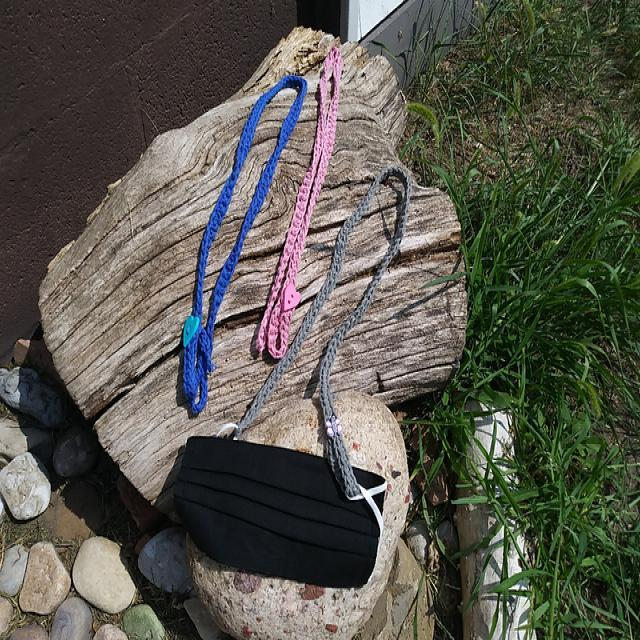face mask: (170, 416, 394, 599)
